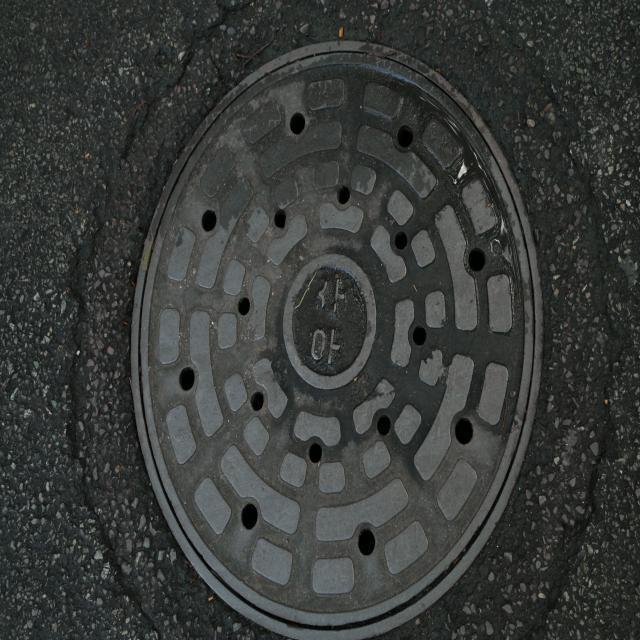manhole: (131, 41, 541, 640)
